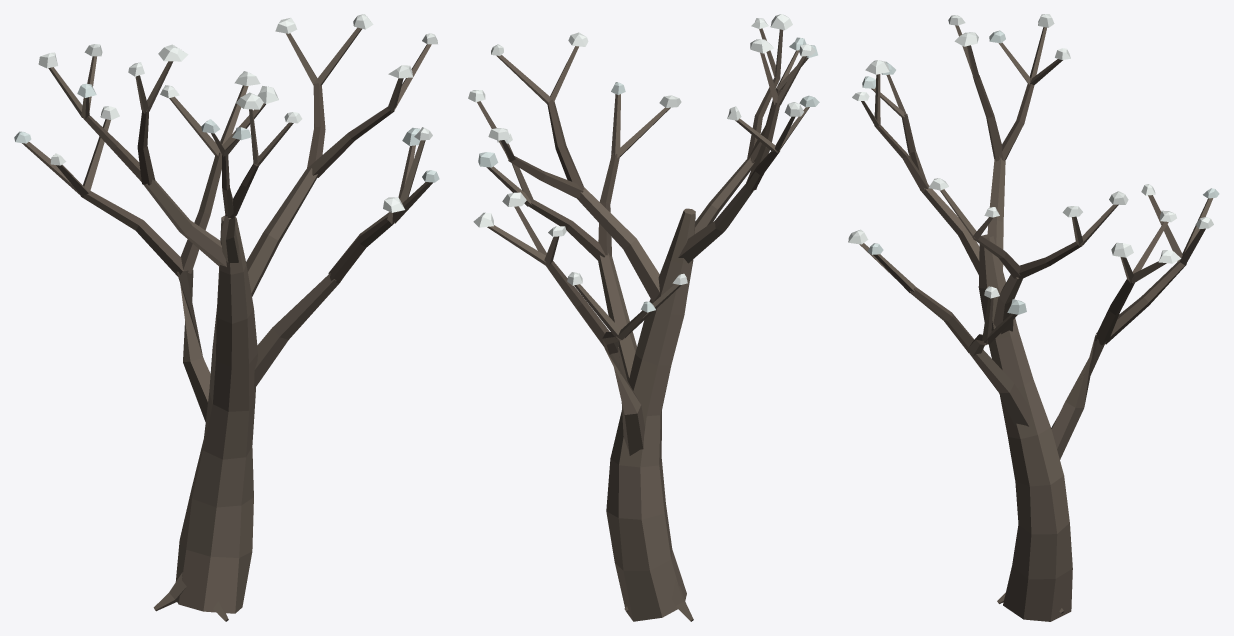
Rendered from bare_tree.glb.
The picture shows the model from 3 angles, left to right: view 1: azimuth 30°, elevation 25°; view 2: azimuth 150°, elevation 25°; view 3: azimuth 270°, elevation 25°; orthographic projection. The views are drawn at different scales.
Visible parts, largest first — view 1: bare_tree; view 2: bare_tree; view 3: bare_tree.
Boxes of the visible parts, x1,y1,x2,y2 form: bare_tree: (14, 14, 439, 621); bare_tree: (468, 14, 819, 621); bare_tree: (848, 14, 1219, 621).
Bounding box in the file's own units: 2.84 × 4.5 × 2.78.
